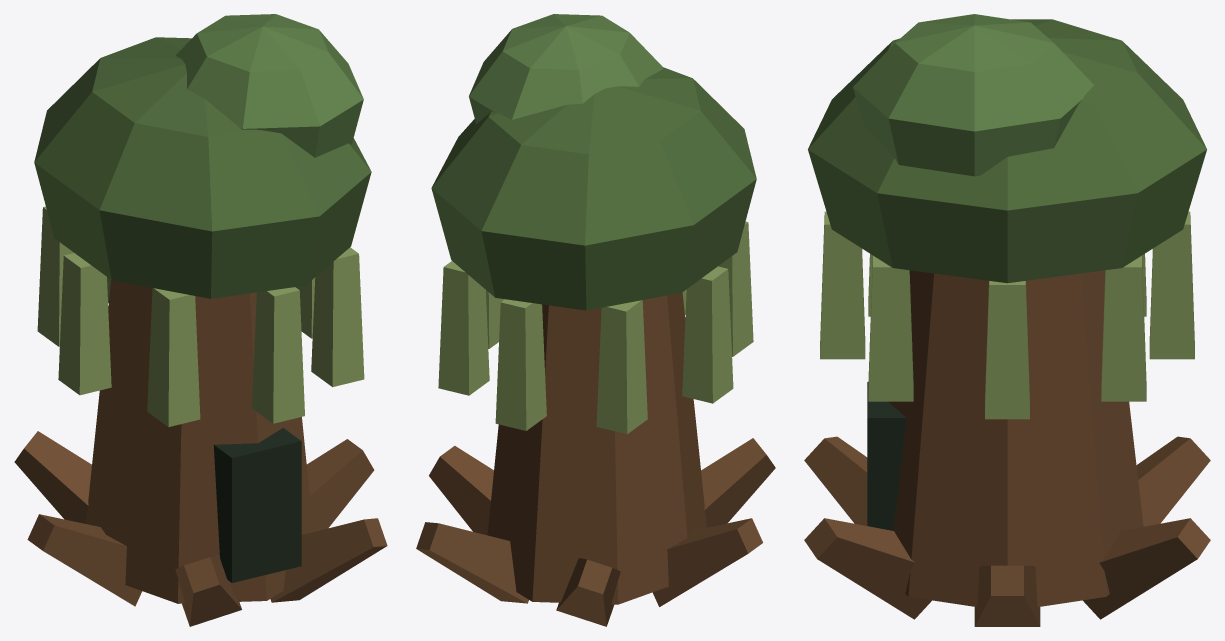
File: env_r6_hollow_giant_tree.glb
3 views of the same model, side by side, from view 1: azimuth 30°, elevation 25°; view 2: azimuth 150°, elevation 25°; view 3: azimuth 270°, elevation 25° (orthographic). The views are drawn at different scales.
Parts seen in each view (by area): view 1: env_r6_hollow_giant_tree; view 2: env_r6_hollow_giant_tree; view 3: env_r6_hollow_giant_tree.
Boxes of the visible parts, x1,y1,x2,y2 form: env_r6_hollow_giant_tree: [14, 14, 387, 626]; env_r6_hollow_giant_tree: [416, 14, 775, 626]; env_r6_hollow_giant_tree: [804, 14, 1210, 626].
Size of the model in its own units: 5 by 8 by 5.
Materials: 1 (1 with a texture image).
